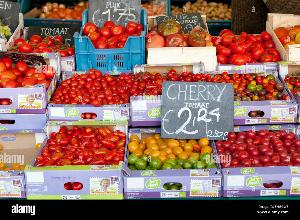tomato: (54, 69, 298, 109), (121, 126, 223, 180), (30, 127, 127, 176), (216, 130, 300, 173), (76, 16, 154, 60), (209, 26, 300, 62), (0, 60, 56, 115), (146, 17, 214, 53), (9, 30, 75, 62), (187, 31, 207, 46), (0, 70, 16, 81), (252, 47, 265, 60), (111, 25, 125, 36), (101, 139, 116, 149), (198, 138, 209, 148), (29, 35, 42, 43), (258, 130, 267, 138), (269, 80, 277, 87)
